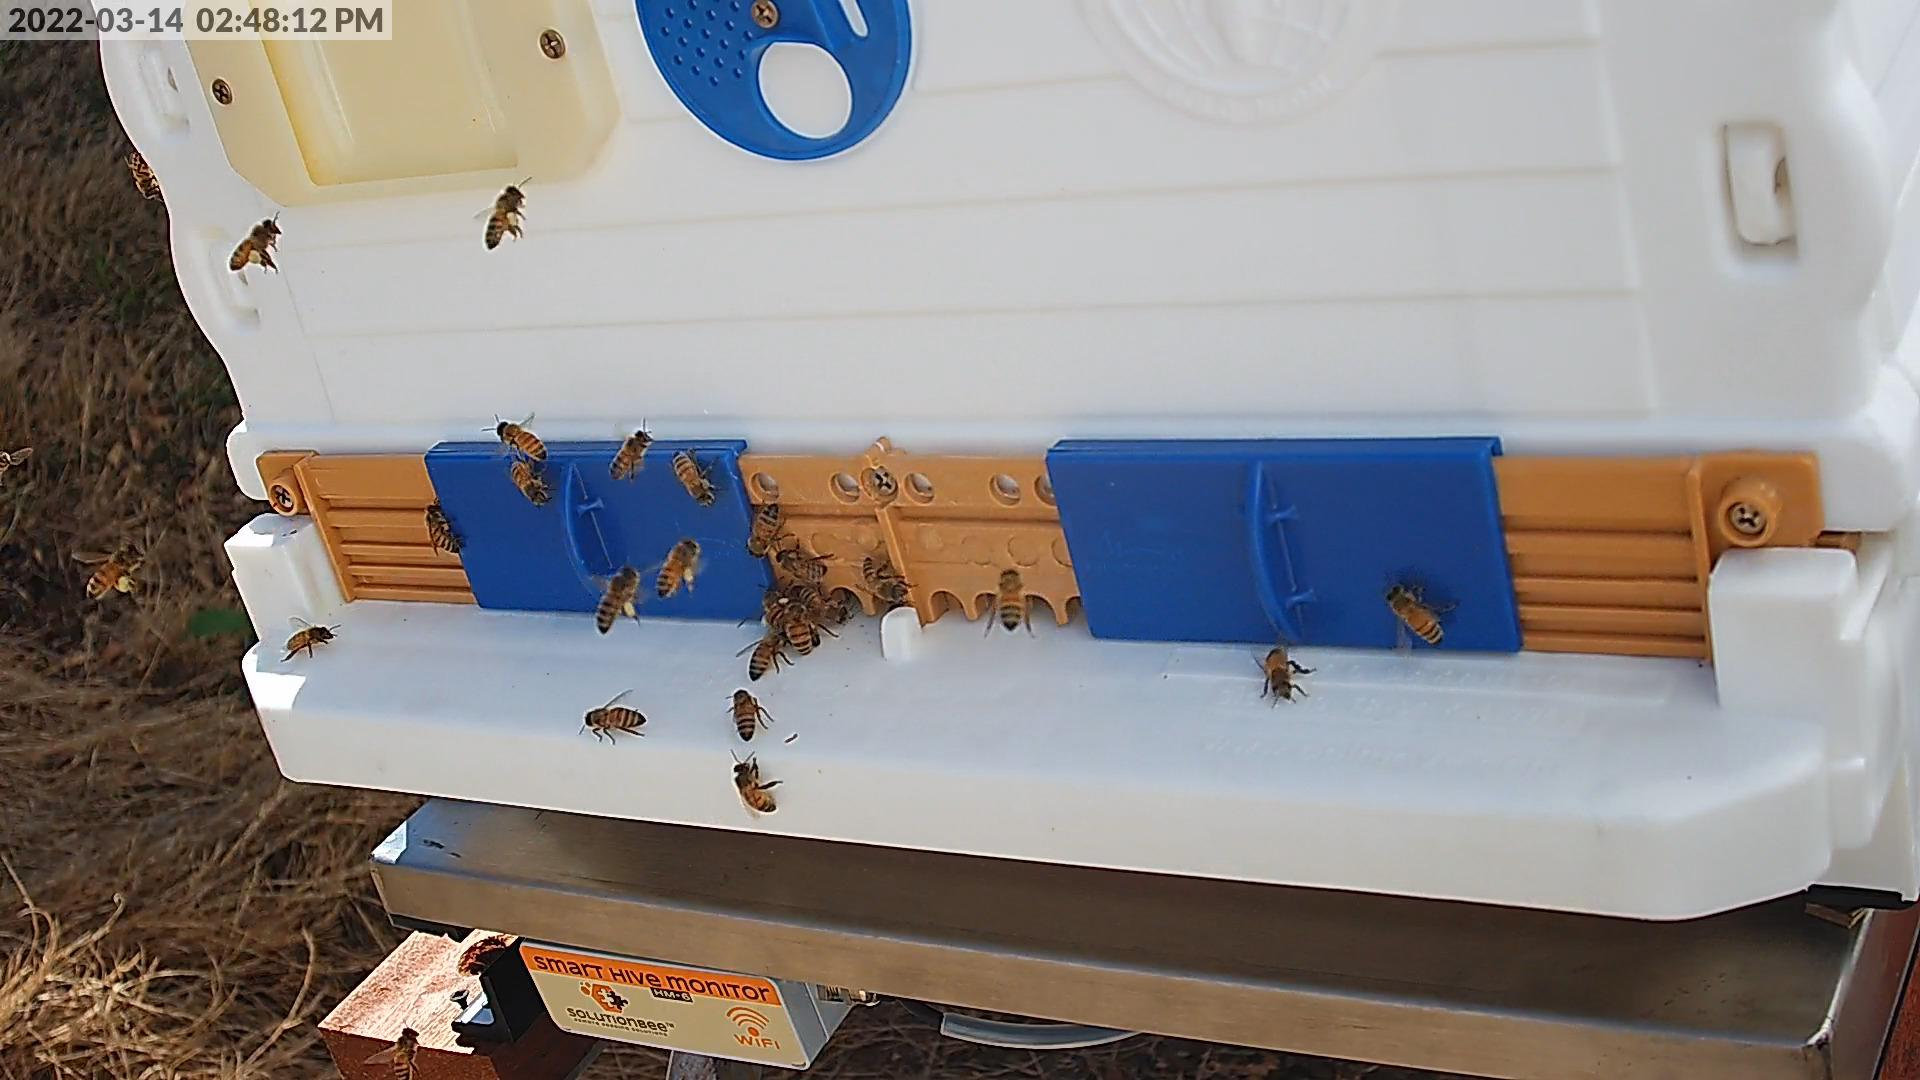bee: (1386, 584, 1444, 644), (673, 451, 715, 504), (732, 762, 774, 814), (744, 501, 779, 558), (749, 628, 787, 680), (127, 148, 164, 202), (862, 556, 907, 600), (996, 571, 1027, 632), (496, 421, 546, 459), (799, 585, 849, 624), (774, 546, 828, 580), (611, 431, 651, 476), (425, 502, 460, 551), (510, 460, 549, 504), (1266, 649, 1295, 698), (732, 690, 761, 738), (584, 708, 645, 731), (396, 1027, 419, 1080), (787, 601, 810, 655), (287, 624, 335, 649)
pollenbee: (88, 543, 148, 600), (229, 218, 281, 273), (596, 570, 638, 634), (484, 187, 524, 251), (657, 541, 699, 599), (761, 589, 793, 633)
